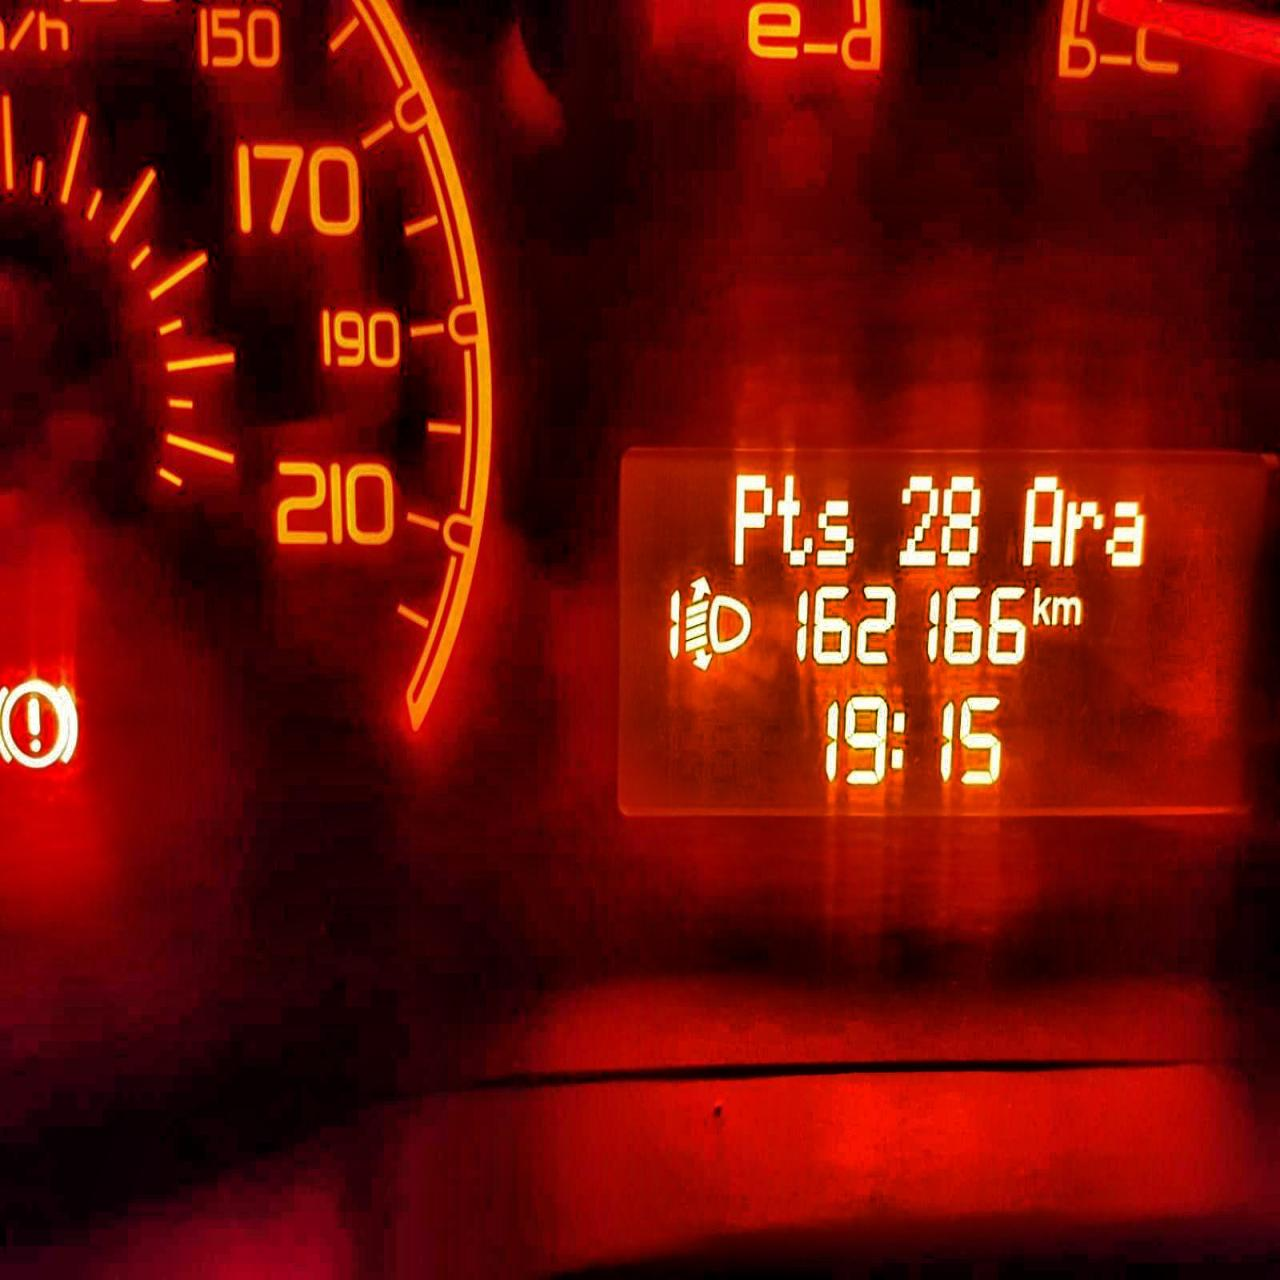1: (937, 694, 956, 790), (821, 693, 840, 784), (663, 579, 683, 658), (794, 585, 809, 667), (926, 581, 940, 666)
2: (900, 461, 939, 571), (858, 578, 893, 668)
5: (960, 689, 1002, 790)
6: (810, 580, 851, 665), (944, 578, 983, 665), (988, 579, 1026, 665)
8: (939, 470, 980, 568)
9: (843, 693, 887, 790)
X: (1020, 471, 1064, 568), (731, 467, 769, 567), (776, 468, 810, 570), (816, 491, 855, 568), (1065, 492, 1104, 568), (1109, 496, 1142, 570), (887, 700, 908, 772), (1050, 592, 1083, 627), (1032, 580, 1051, 629)
odometer: (620, 447, 1264, 821)
